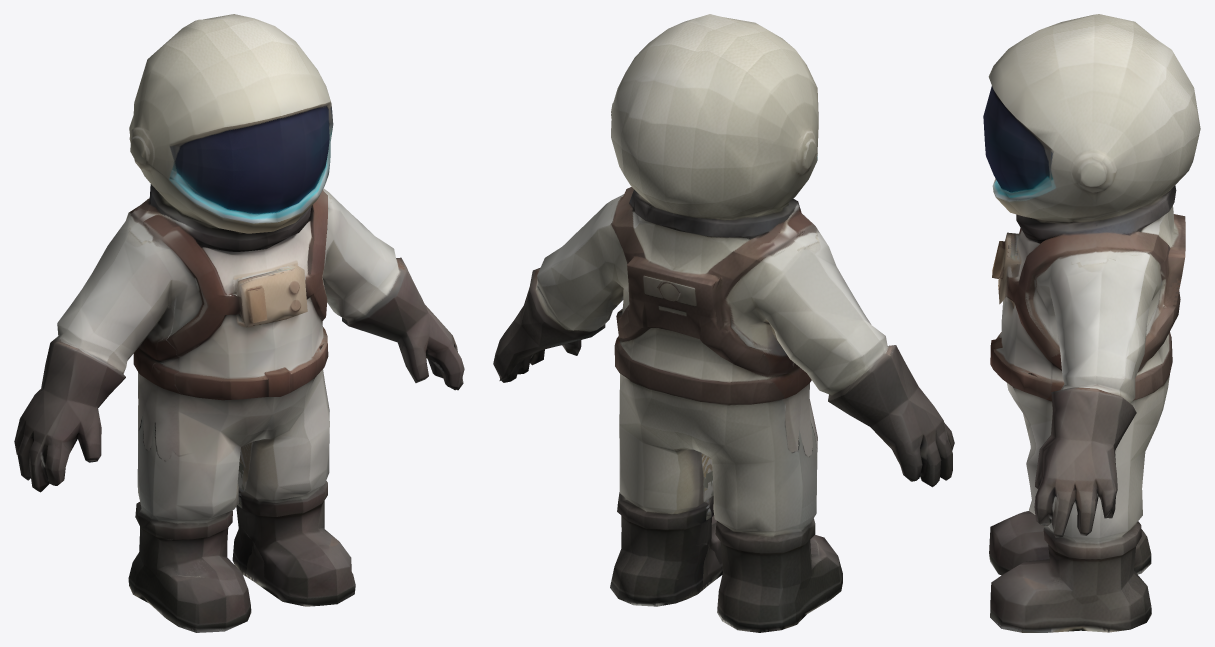
3 renders of one model, left to right at view 1: azimuth 30°, elevation 25°; view 2: azimuth 150°, elevation 25°; view 3: azimuth 270°, elevation 25°, orthographic. The views are drawn at different scales.
Parts seen in each view (by area): view 1: texture_mapping; view 2: texture_mapping; view 3: texture_mapping.
Part boxes in pixels (x1,y1,x2,y2): texture_mapping: [14, 14, 464, 632]; texture_mapping: [493, 14, 954, 632]; texture_mapping: [983, 14, 1200, 632].
Size of the model in its own units: 0.7816 by 0.9684 by 0.3354.
Materials: 1 (1 with a texture image).
